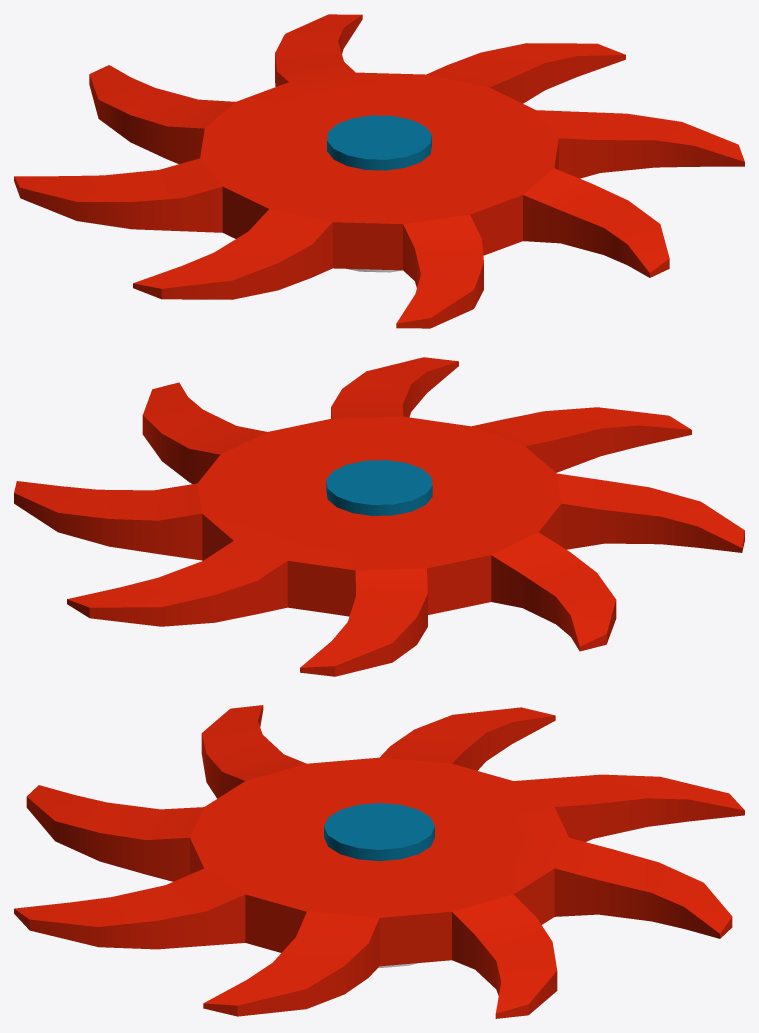
The model's file is Obs_11.fbx.
3 views of the same model, one above another, from view 1: azimuth 30°, elevation 25°; view 2: azimuth 150°, elevation 25°; view 3: azimuth 270°, elevation 25° (orthographic). The views are drawn at different scales.
Parts seen in each view (by area): view 1: Obs_11; view 2: Obs_11; view 3: Obs_11.
Boxes of the visible parts, left/top/right/bottom form: Obs_11: left=14, top=14, right=744, bottom=328; Obs_11: left=14, top=357, right=744, bottom=676; Obs_11: left=14, top=705, right=744, bottom=1018.
Size of the model in its own units: 1.11 by 0.1822 by 1.11.
